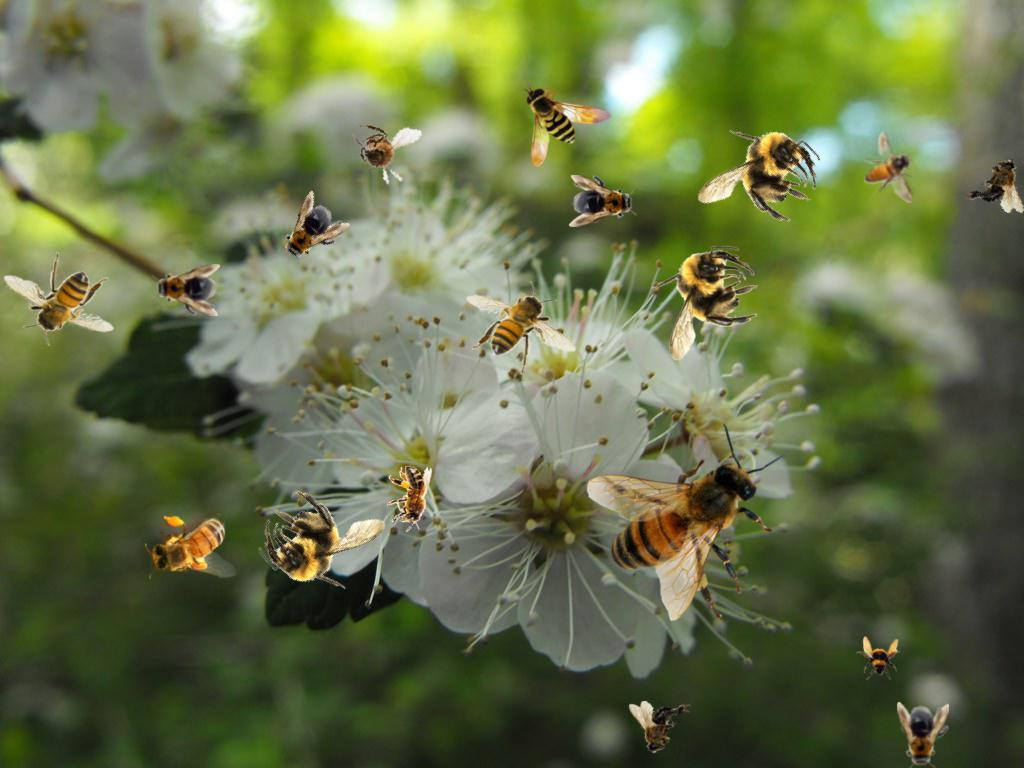Bee: (586, 422, 790, 621), (680, 98, 837, 257), (244, 460, 401, 617), (651, 246, 758, 361), (3, 252, 114, 346), (466, 281, 577, 375), (268, 190, 352, 276), (524, 85, 612, 167), (143, 510, 239, 583), (340, 113, 423, 191), (962, 149, 1024, 217), (864, 132, 914, 203), (152, 264, 220, 316), (569, 175, 637, 227), (897, 702, 949, 768), (629, 701, 691, 754), (387, 466, 432, 532), (856, 636, 900, 680)
